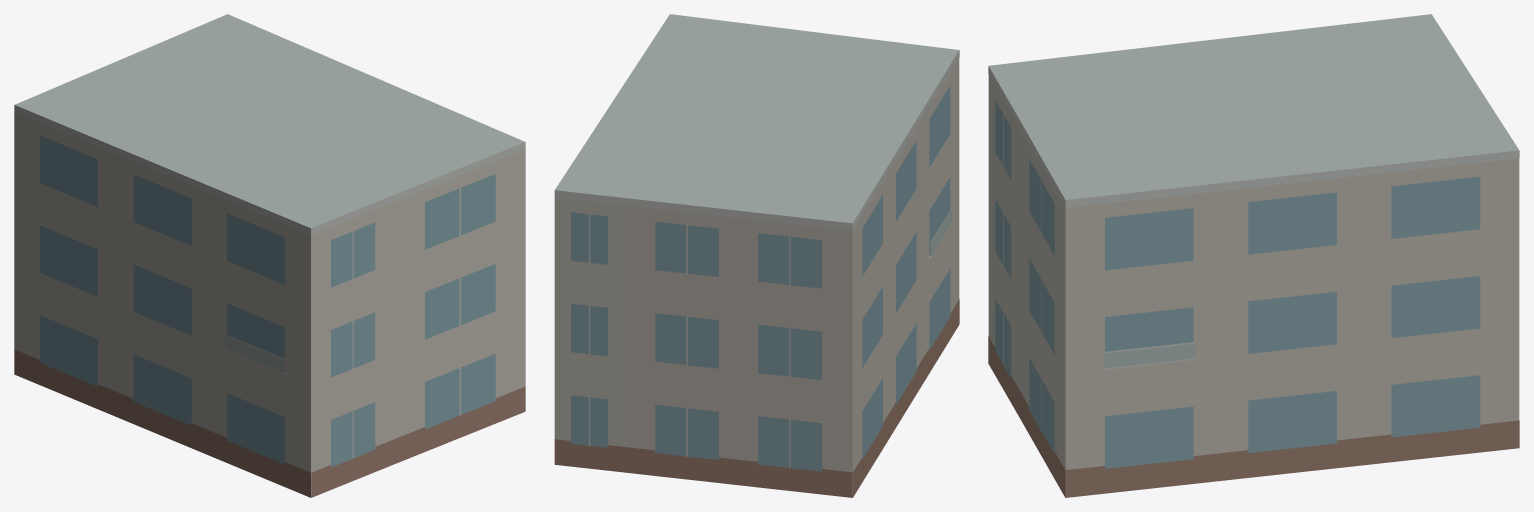
Rendered from survey-upis-32966079.glb.
The picture shows the model from 3 angles, left to right: view 1: azimuth 30°, elevation 25°; view 2: azimuth 150°, elevation 25°; view 3: azimuth 270°, elevation 25°; orthographic projection. The views are drawn at different scales.
Parts seen in each view (by area): view 1: survey-upis-32966079.tmp; view 2: survey-upis-32966079.tmp; view 3: survey-upis-32966079.tmp.
Boxes of the visible parts, box(x1,y1,x2,y2) form: survey-upis-32966079.tmp: box(14, 14, 525, 497); survey-upis-32966079.tmp: box(554, 14, 959, 497); survey-upis-32966079.tmp: box(988, 14, 1519, 497).
Size of the model in its own units: 12.28 by 9.15 by 14.8.
